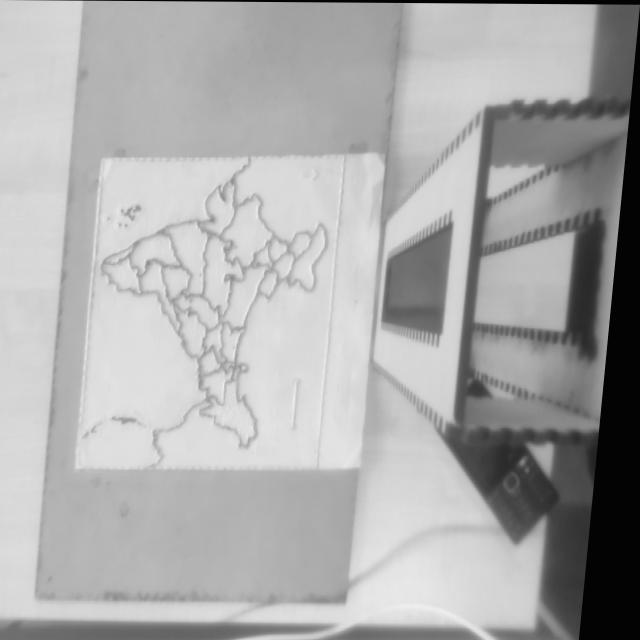map: (75, 134, 345, 489)
